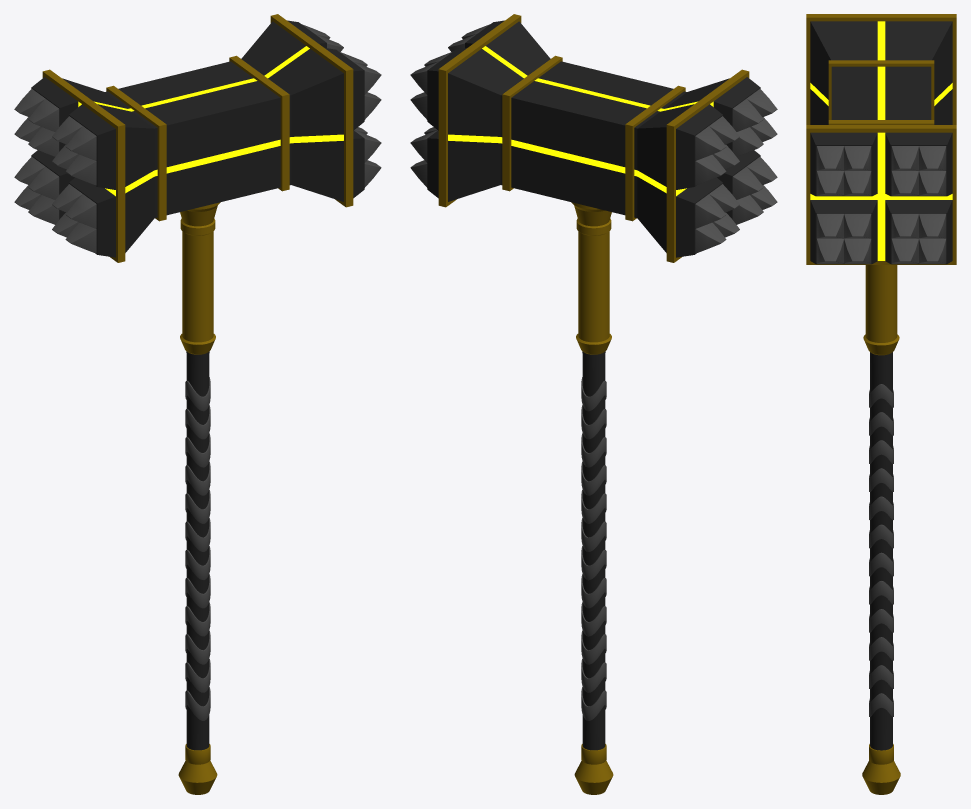
Rendered from Hammer.fbx.
3 renders of one model, left to right at view 1: azimuth 30°, elevation 25°; view 2: azimuth 150°, elevation 25°; view 3: azimuth 270°, elevation 25°, orthographic.
Visible parts, largest first — view 1: Hammer; view 2: Hammer; view 3: Hammer.
Part boxes in pixels (x1,y1,x2,y2): Hammer: (14, 14, 381, 794); Hammer: (410, 14, 777, 794); Hammer: (806, 14, 956, 794).
Bounding box in the file's own units: 84.98 × 188 × 35.73.
